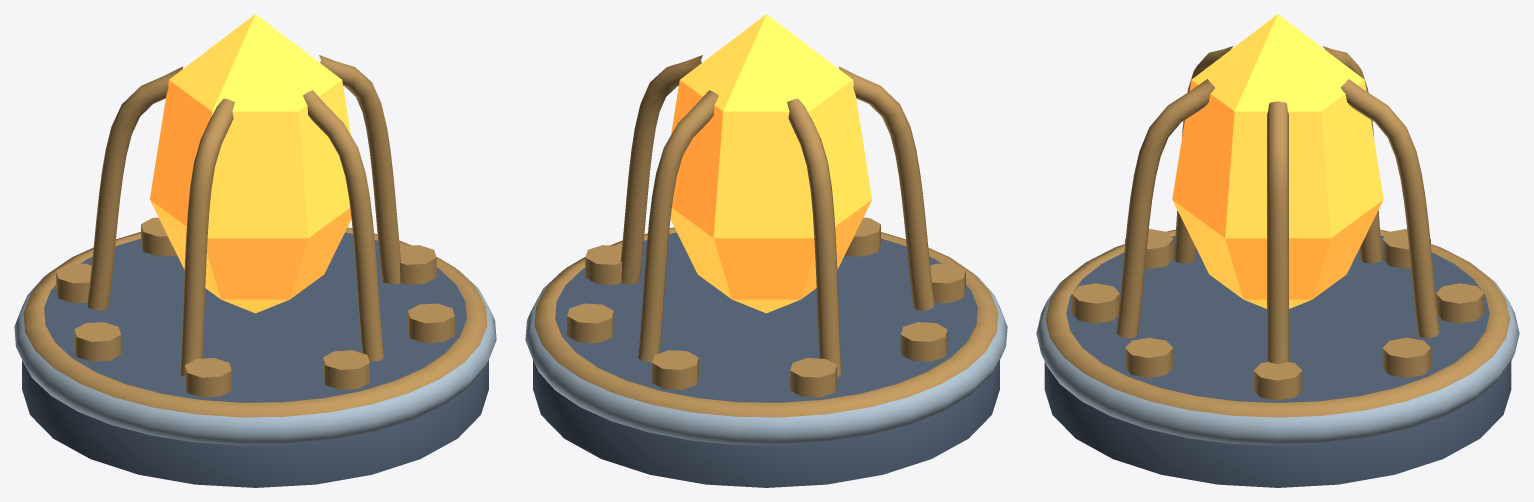
The model's file is moonsteel-convergence-capture-relic-34af4972__18203.glb.
3 renders of one model, left to right at view 1: azimuth 30°, elevation 25°; view 2: azimuth 150°, elevation 25°; view 3: azimuth 270°, elevation 25°, orthographic.
Parts seen in each view (by area): view 1: capture-relic; view 2: capture-relic; view 3: capture-relic.
Boxes of the visible parts, x1,y1,x2,y2 form: capture-relic: [14, 14, 496, 487]; capture-relic: [525, 14, 1007, 487]; capture-relic: [1036, 14, 1519, 487].
Size of the model in its own units: 1.1 by 0.94 by 1.1.
